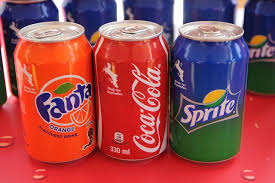fanta: (15, 32, 97, 159)
